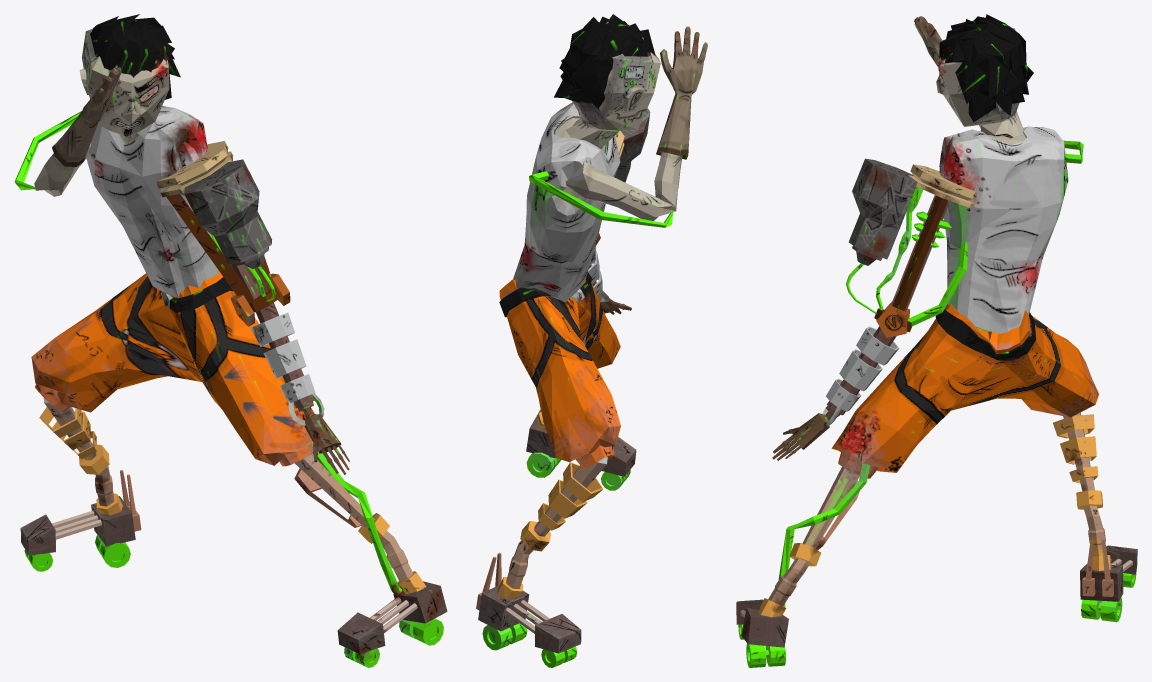
File: CyborgFINALAnimation_000070.obj
3 renders of one model, left to right at view 1: azimuth 30°, elevation 25°; view 2: azimuth 150°, elevation 25°; view 3: azimuth 270°, elevation 25°, orthographic. The views are drawn at different scales.
Parts seen in each view (by area): view 1: CyborgMesh_Cube.002; view 2: CyborgMesh_Cube.002; view 3: CyborgMesh_Cube.002.
Part boxes in pixels (<box>): CyborgMesh_Cube.002: <box>14,14,447,667</box>; CyborgMesh_Cube.002: <box>476,14,707,667</box>; CyborgMesh_Cube.002: <box>736,14,1137,667</box>.
Bounding box in the file's own units: 4.23 × 8.63 × 5.44.
